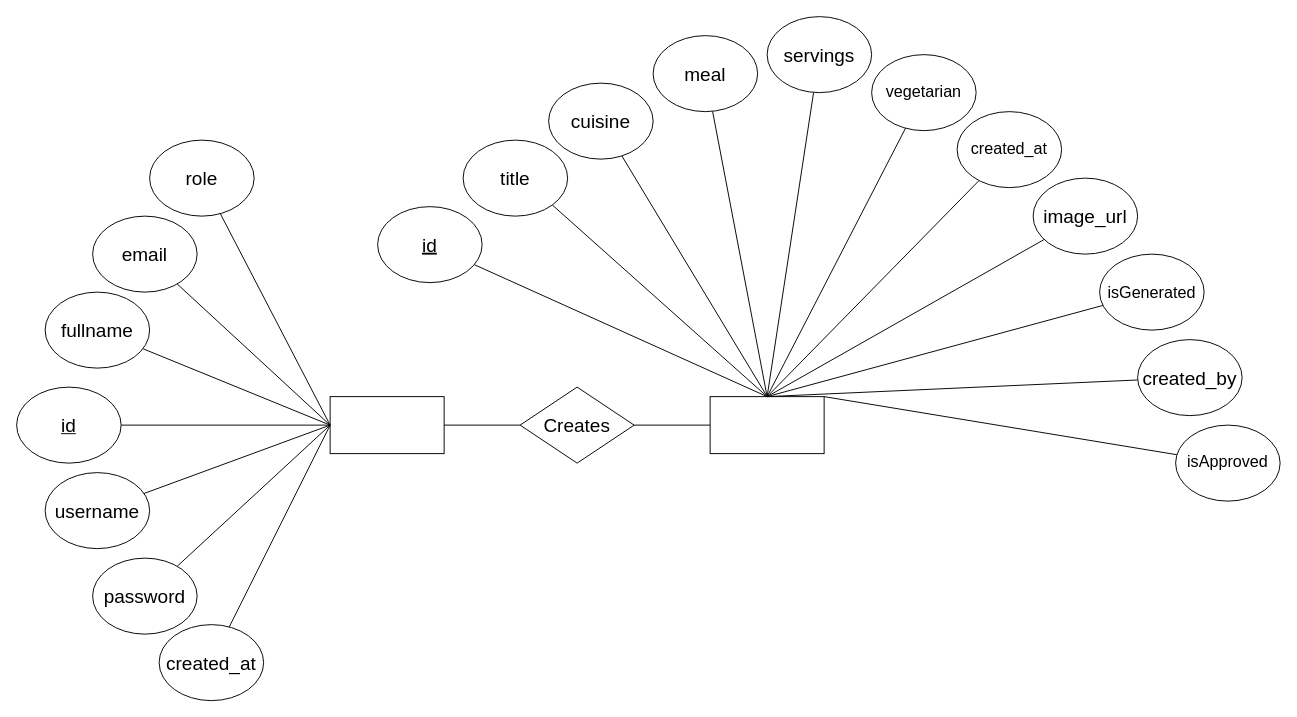
Some shapes in this 1297 by 717 pixel diagram are drawn without their labels. Each missing label, with the centre of its shape:
"Recipes" belongs at pixel 766 425.
"Users" belongs at pixel 386 425.
